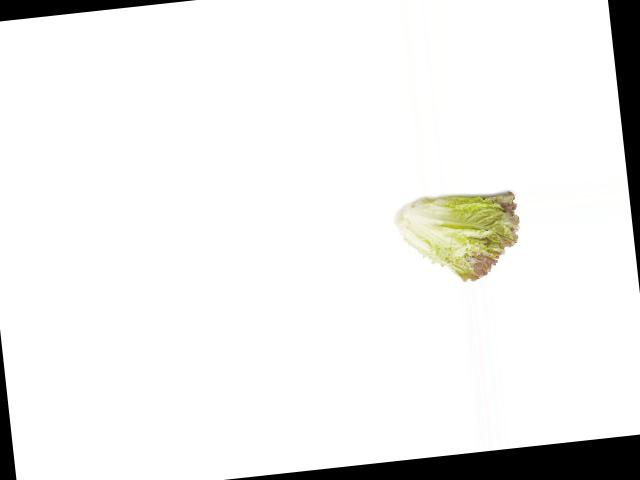lettuce: (394, 189, 527, 287)
